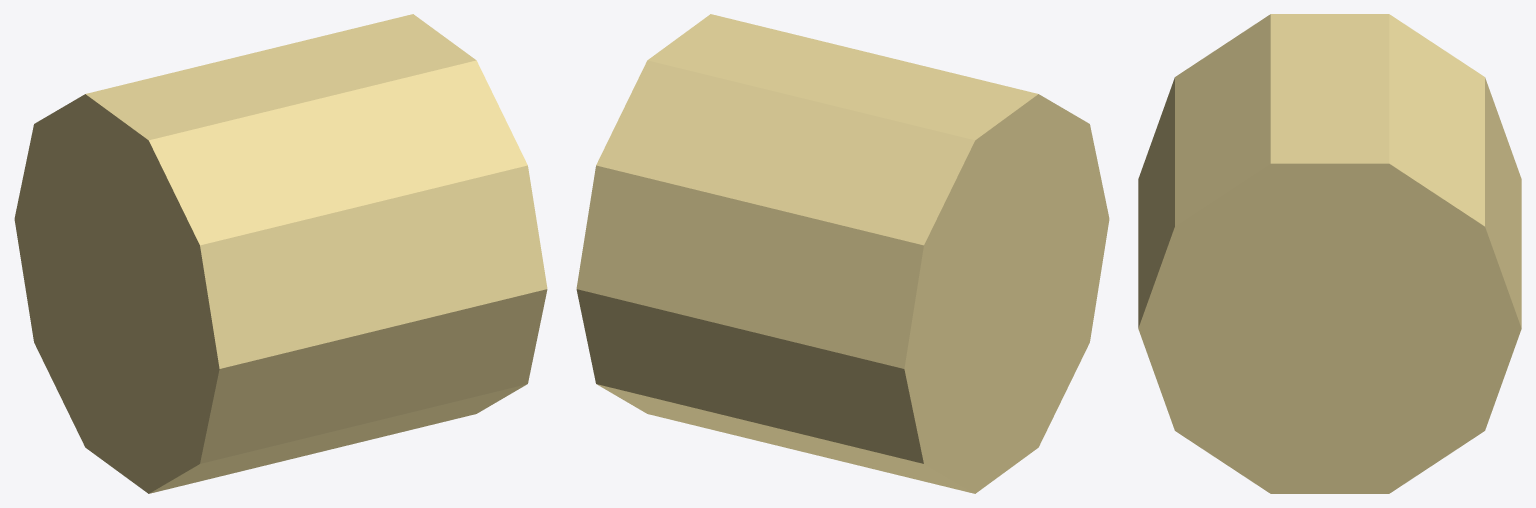
Rendered from hay_bale.glb.
3 views of the same model, side by side, from view 1: azimuth 30°, elevation 25°; view 2: azimuth 150°, elevation 25°; view 3: azimuth 270°, elevation 25° (orthographic). The views are drawn at different scales.
Parts seen in each view (by area): view 1: hay_bale; view 2: hay_bale; view 3: hay_bale.
Part boxes in pixels (x1,y1,x2,y2): hay_bale: (14,14,547,493); hay_bale: (576,14,1109,493); hay_bale: (1138,14,1521,493).
Bounding box in the file's own units: 1.2 × 1.24 × 1.3.
